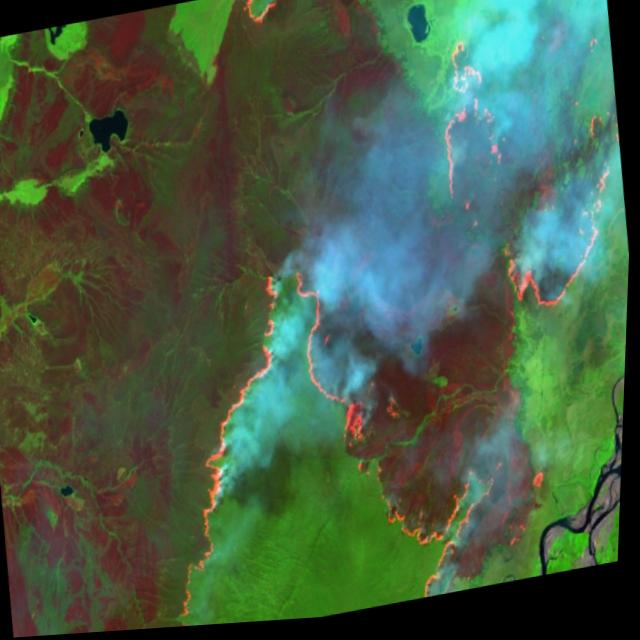fire: (98, 0, 640, 634)
